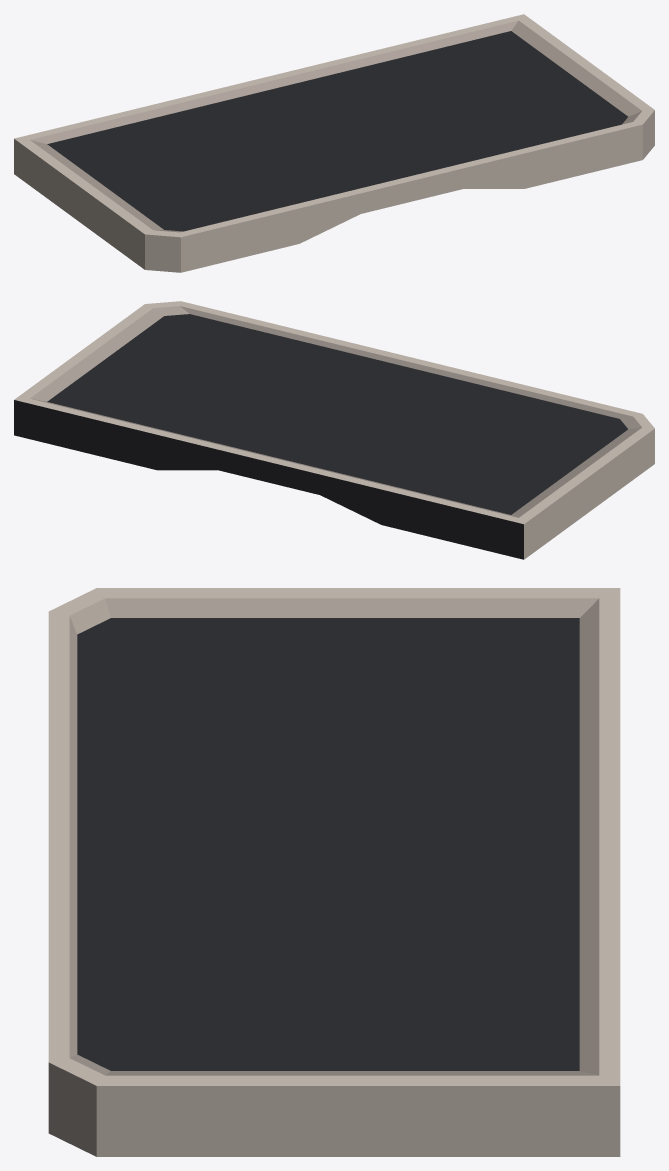
Rendered from SM_Wall_Shelf.glb.
3 renders of one model, top to bottom at view 1: azimuth 30°, elevation 25°; view 2: azimuth 150°, elevation 25°; view 3: azimuth 270°, elevation 25°, orthographic. The views are drawn at different scales.
Parts seen in each view (by area): view 1: SM_Wall_Shelf; view 2: SM_Wall_Shelf; view 3: SM_Wall_Shelf.
Part boxes in pixels (<box>): SM_Wall_Shelf: <box>14,14,654,272</box>; SM_Wall_Shelf: <box>14,301,654,559</box>; SM_Wall_Shelf: <box>48,588,620,1156</box>.
Size of the model in its own units: 1.2 by 0.0799 by 0.5822.
Materials: 1 (1 with a texture image).
